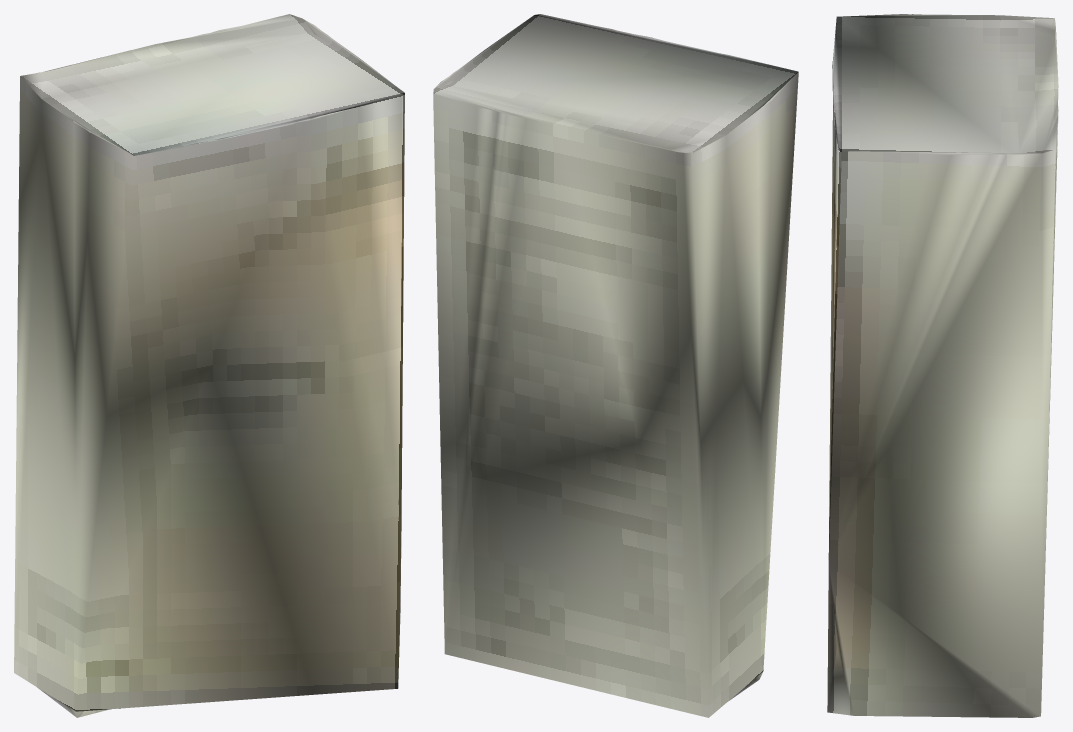
The model's file is Perricone_MD_No_Foundation_Foundation_No_1-low.glb.
3 views of the same model, side by side, from view 1: azimuth 30°, elevation 25°; view 2: azimuth 150°, elevation 25°; view 3: azimuth 270°, elevation 25° (orthographic). The views are drawn at different scales.
Parts seen in each view (by area): view 1: Perricone_MD_No_Foundation_Foundation_No_1; view 2: Perricone_MD_No_Foundation_Foundation_No_1; view 3: Perricone_MD_No_Foundation_Foundation_No_1.
Boxes of the visible parts, left/top/right/bottom form: Perricone_MD_No_Foundation_Foundation_No_1: left=14, top=14, right=404, bottom=717; Perricone_MD_No_Foundation_Foundation_No_1: left=433, top=14, right=798, bottom=717; Perricone_MD_No_Foundation_Foundation_No_1: left=827, top=14, right=1058, bottom=717.
Size of the model in its own units: 0.0615 by 0.1207 by 0.0438.
Materials: 1 (1 with a texture image).
